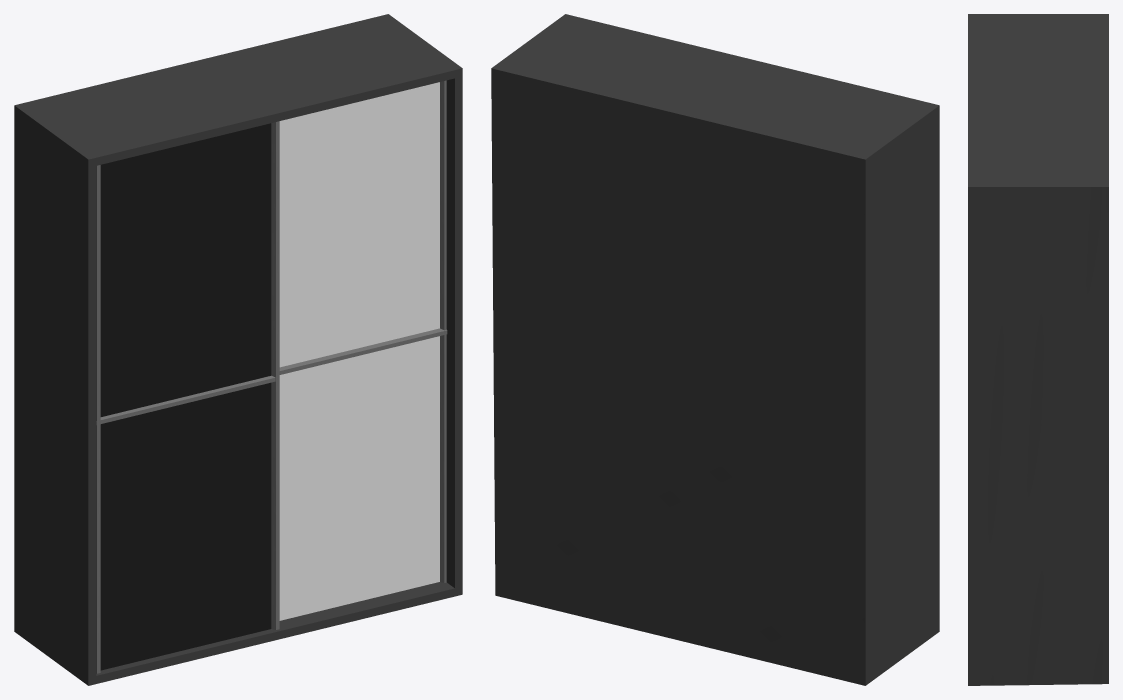
File: closet_019.fbx
3 renders of one model, left to right at view 1: azimuth 30°, elevation 25°; view 2: azimuth 150°, elevation 25°; view 3: azimuth 270°, elevation 25°, orthographic. The views are drawn at different scales.
Visible parts, largest first — view 1: closet_019; view 2: closet_019; view 3: closet_019.
Part boxes in pixels (x1,y1,x2,y2): closet_019: [14, 14, 462, 685]; closet_019: [491, 14, 939, 685]; closet_019: [968, 14, 1108, 685].
Bounding box in the file's own units: 209 × 71.81 × 281.
